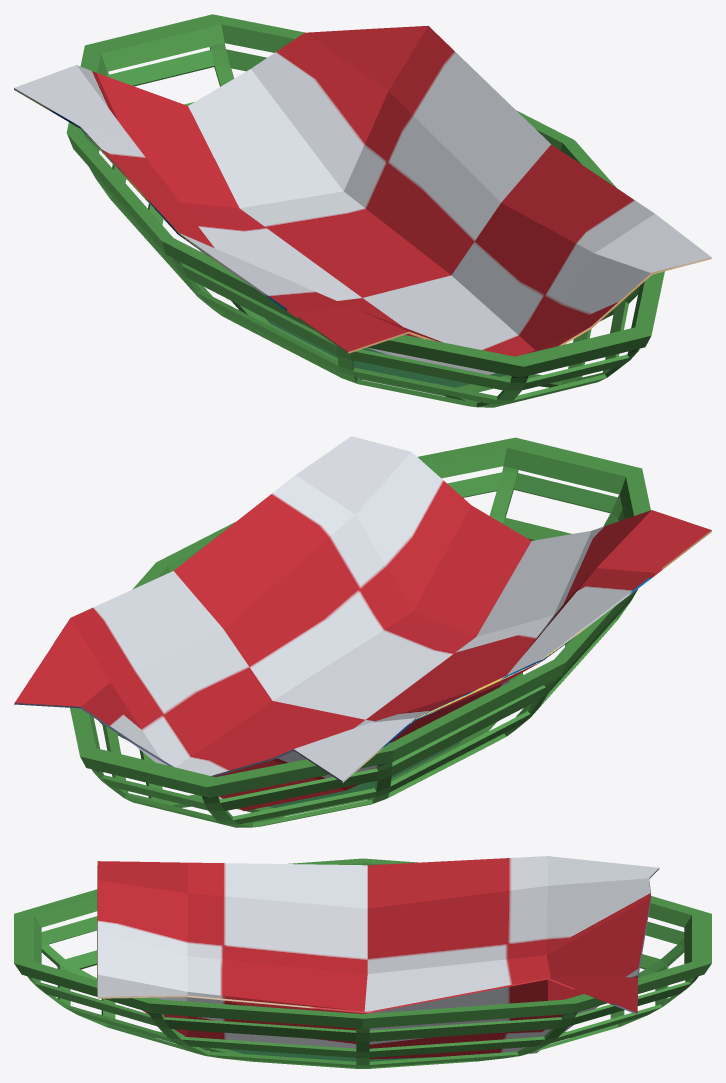
Rendered from f_servingbasket.fbx.
3 views of the same model, one above another, from view 1: azimuth 30°, elevation 25°; view 2: azimuth 150°, elevation 25°; view 3: azimuth 270°, elevation 25° (orthographic). The views are drawn at different scales.
Visible parts, largest first — view 1: f_servingbasket; view 2: f_servingbasket; view 3: f_servingbasket.
Boxes of the visible parts, x1=… form: f_servingbasket: x1=14, y1=14, x2=711, y2=407; f_servingbasket: x1=14, y1=436, x2=711, y2=827; f_servingbasket: x1=14, y1=856, x2=711, y2=1068.
Bounding box in the file's own units: 78.72 × 42.77 × 14.79.
